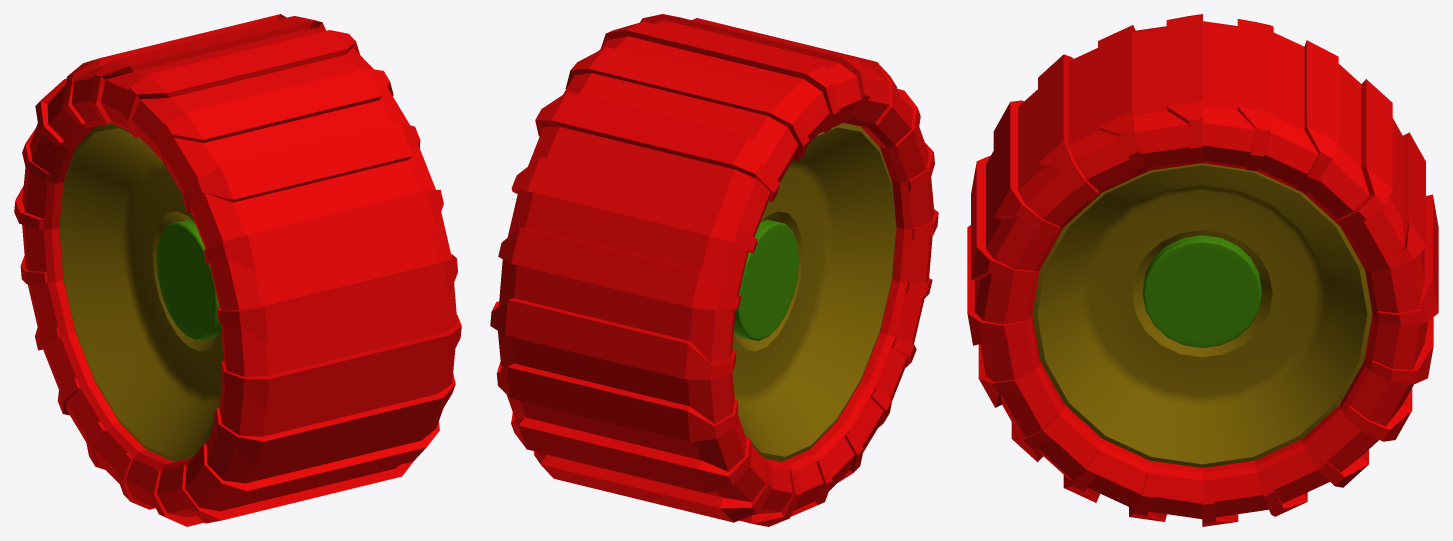
File: Car_RightFrontWheel_V1.fbx
The picture shows the model from 3 angles, left to right: view 1: azimuth 30°, elevation 25°; view 2: azimuth 150°, elevation 25°; view 3: azimuth 270°, elevation 25°; orthographic projection. The views are drawn at different scales.
Visible parts, largest first — view 1: RFrontTire, RFRim, RFRimCenter; view 2: RFrontTire, RFRim, RFRimCenter; view 3: RFrontTire, RFRim, RFRimCenter.
Part boxes in pixels (x1,y1,x2,y2): RFrontTire: (14, 14, 461, 526); RFRim: (59, 123, 223, 461); RFRimCenter: (156, 220, 221, 340); RFrontTire: (490, 14, 938, 526); RFRim: (732, 123, 896, 461); RFRimCenter: (734, 219, 798, 340); RFrontTire: (967, 14, 1438, 526); RFRim: (1032, 163, 1372, 467); RFRimCenter: (1142, 235, 1261, 347).
Size of the model in its own units: 0.00513 by 0.009 by 0.00903.
